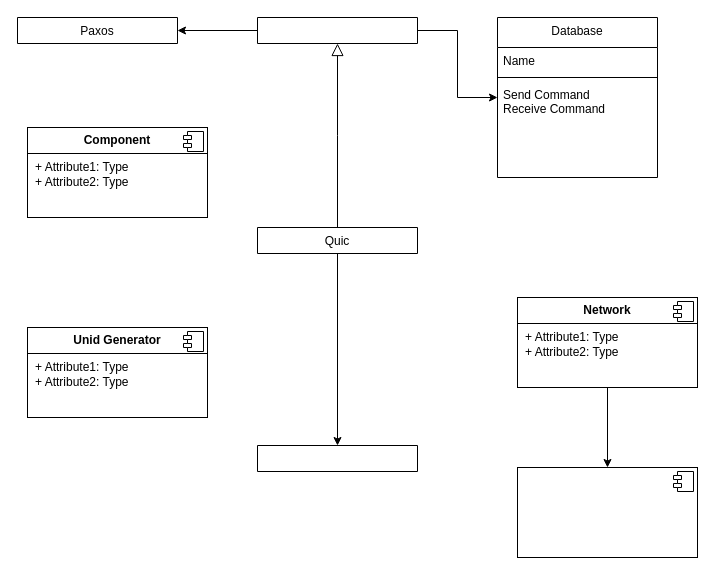
Image size: 715x575. Some labels were removed from this diagram. The centre of each missing label's shape, as x and y in pixels:
Consensus + Attribute1: Type + Attribute2: Type: (607,512)
Udp: (337,458)
Unid: (337,30)
